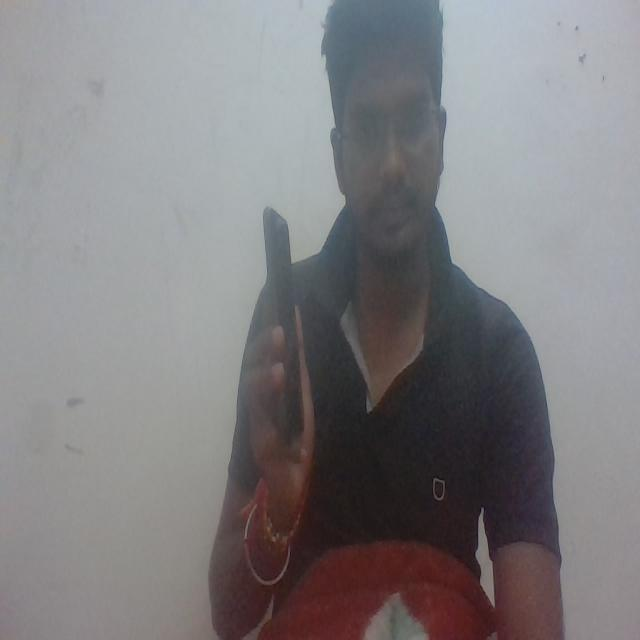Phone: (256, 202, 308, 450)
